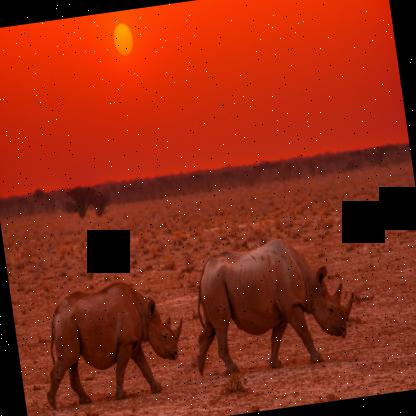Diceros bicornis: (180, 225, 364, 381), (30, 271, 192, 413)
